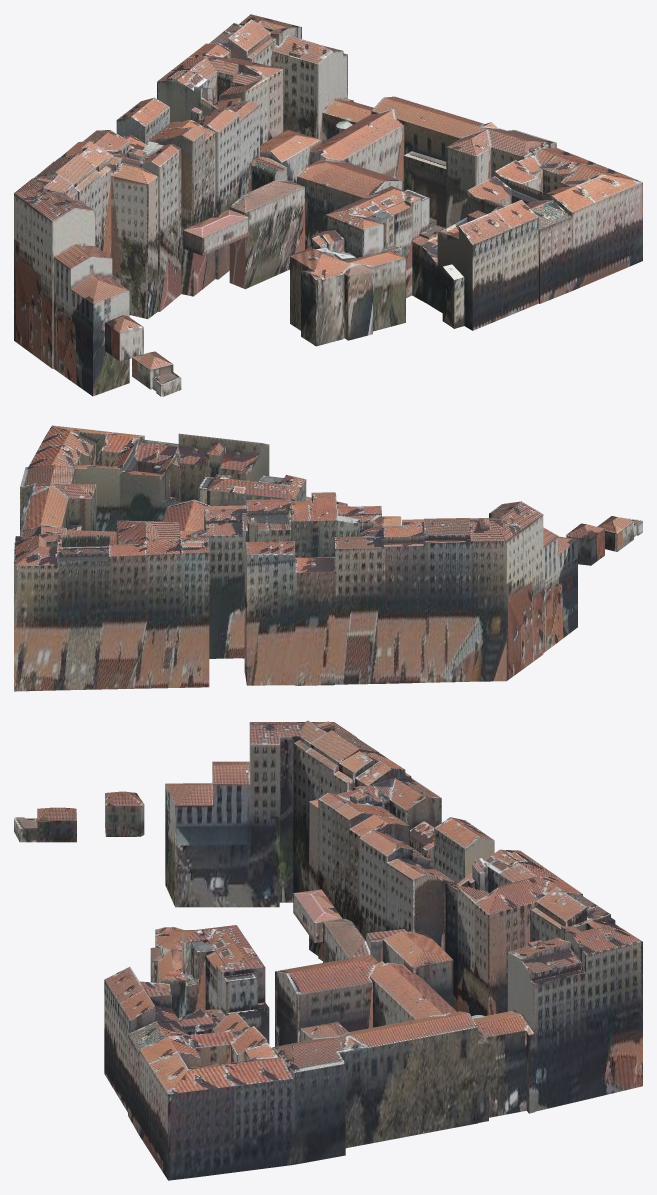
File: LYON_1ER_00154.dae
The picture shows the model from 3 angles, top to bottom: view 1: azimuth 30°, elevation 25°; view 2: azimuth 150°, elevation 25°; view 3: azimuth 270°, elevation 25°; orthographic projection. The views are drawn at different scales.
Bounding box in the file's own units: 201 × 180 × 55.25.
2 materials, 2 textured.
